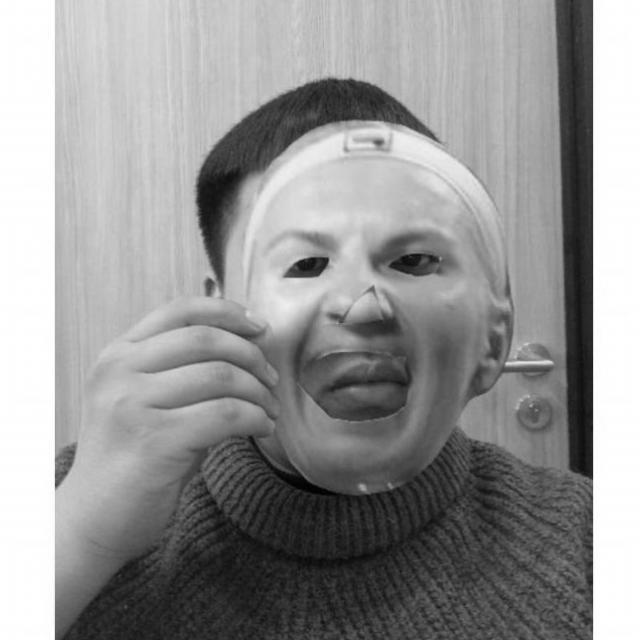fake: (239, 120, 518, 486)
